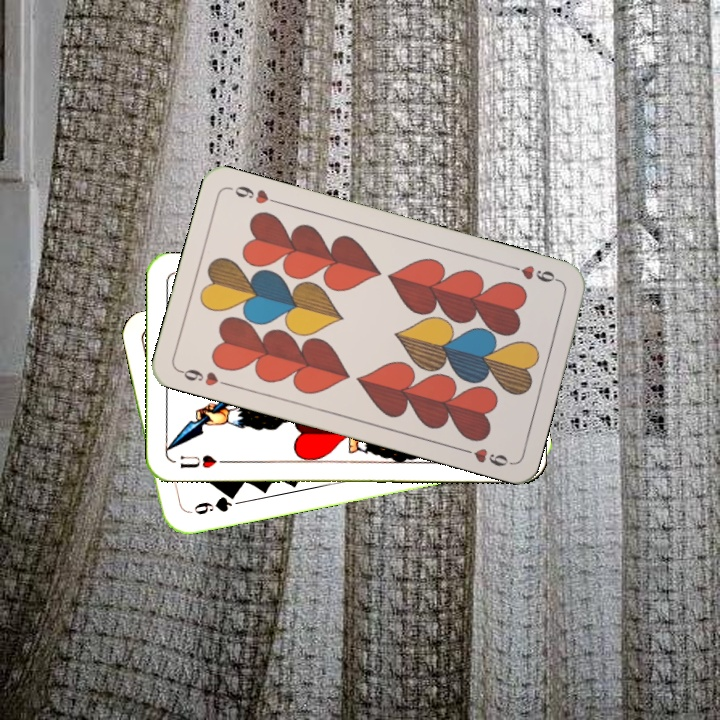G9: (182, 489, 239, 518)
H9: (505, 261, 563, 286), (175, 365, 233, 389)
HU: (176, 451, 230, 471)
